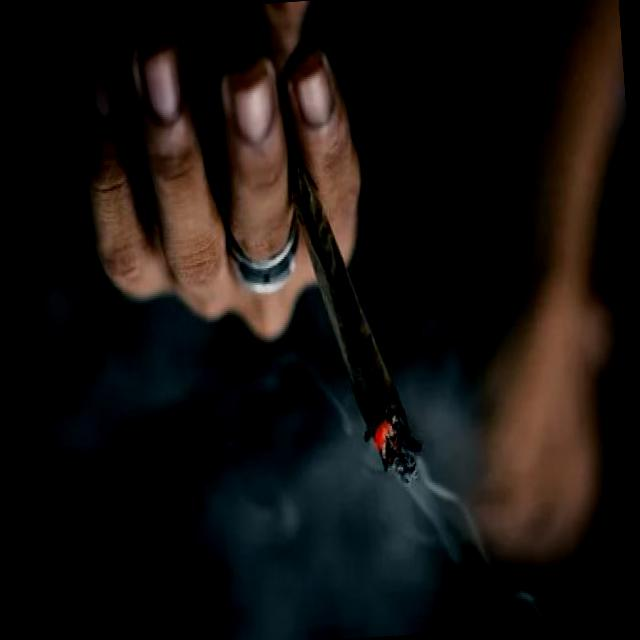cigarette: (276, 146, 428, 498)
